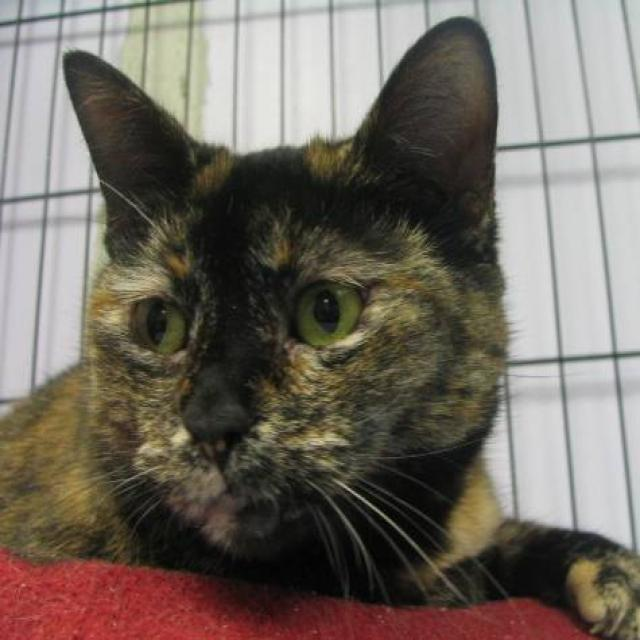cat: (0, 14, 639, 638)
